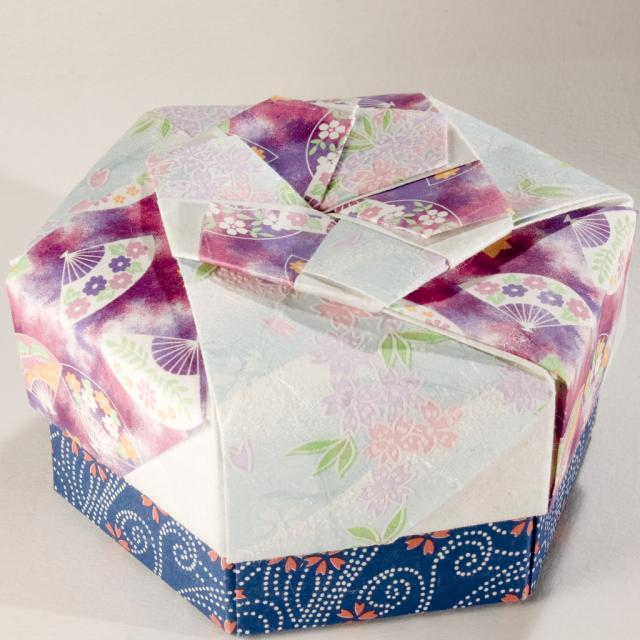Box: (4, 93, 636, 564), (51, 399, 597, 634)
